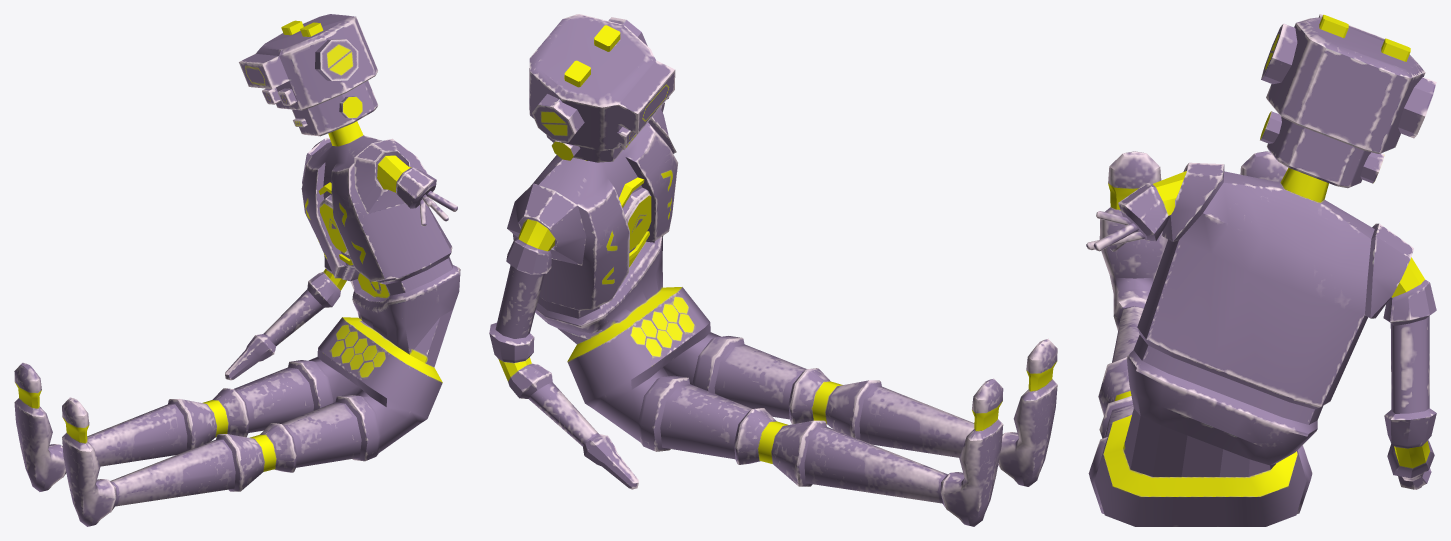
The model's file is SM_Robot.fbx.
The picture shows the model from 3 angles, left to right: view 1: azimuth 30°, elevation 25°; view 2: azimuth 150°, elevation 25°; view 3: azimuth 270°, elevation 25°; orthographic projection. The views are drawn at different scales.
Parts seen in each view (by area): view 1: SM_Robot; view 2: SM_Robot; view 3: SM_Robot.
Boxes of the visible parts, x1,y1,x2,y2 form: SM_Robot: (14, 14, 460, 526); SM_Robot: (489, 14, 1057, 526); SM_Robot: (1086, 14, 1436, 526).
Bounding box in the file's own units: 106 × 56.77 × 94.06.
Materials: 1 (1 with a texture image).
